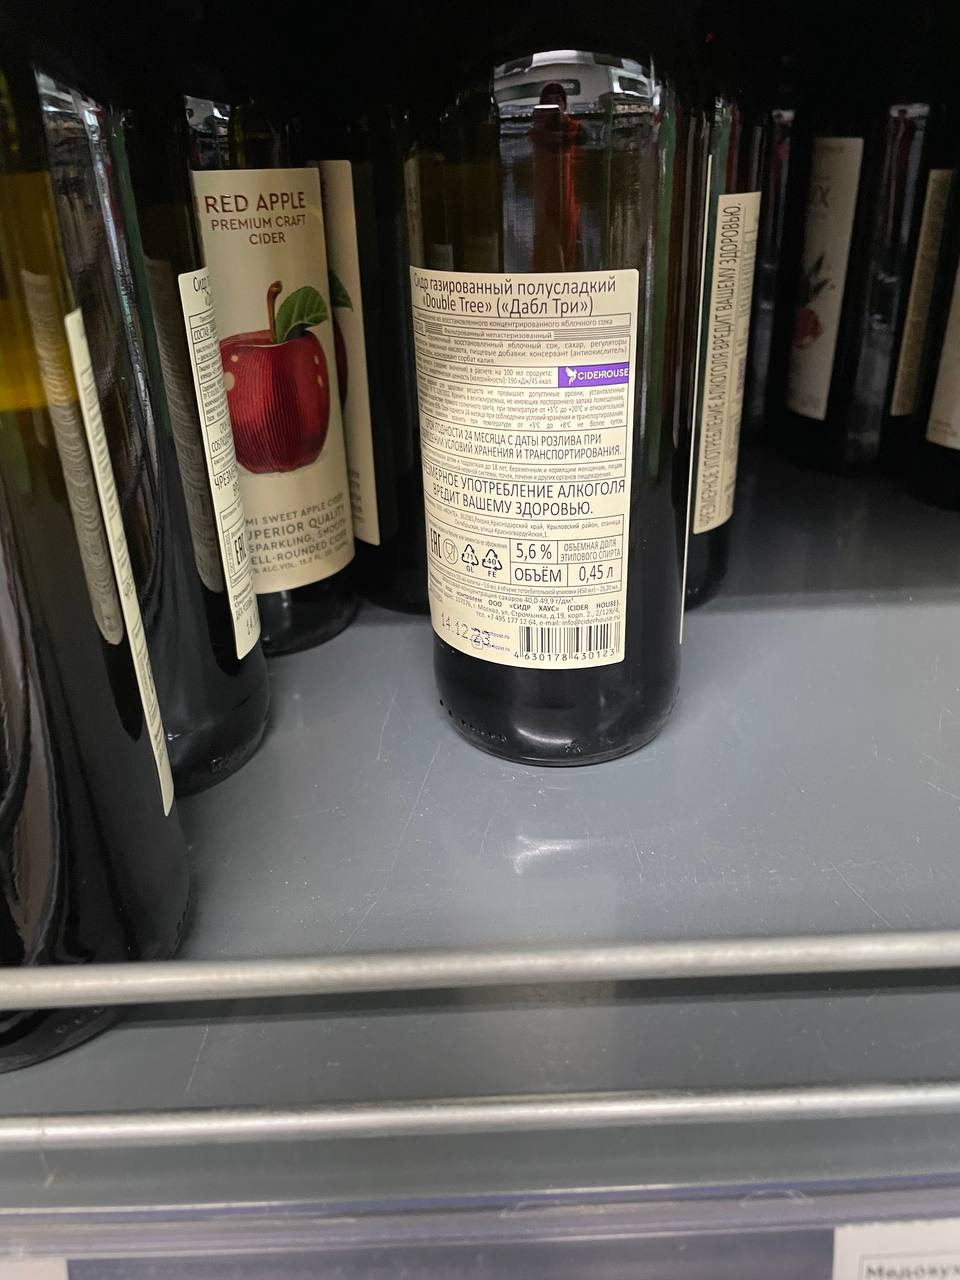1d: (518, 621, 621, 654)
